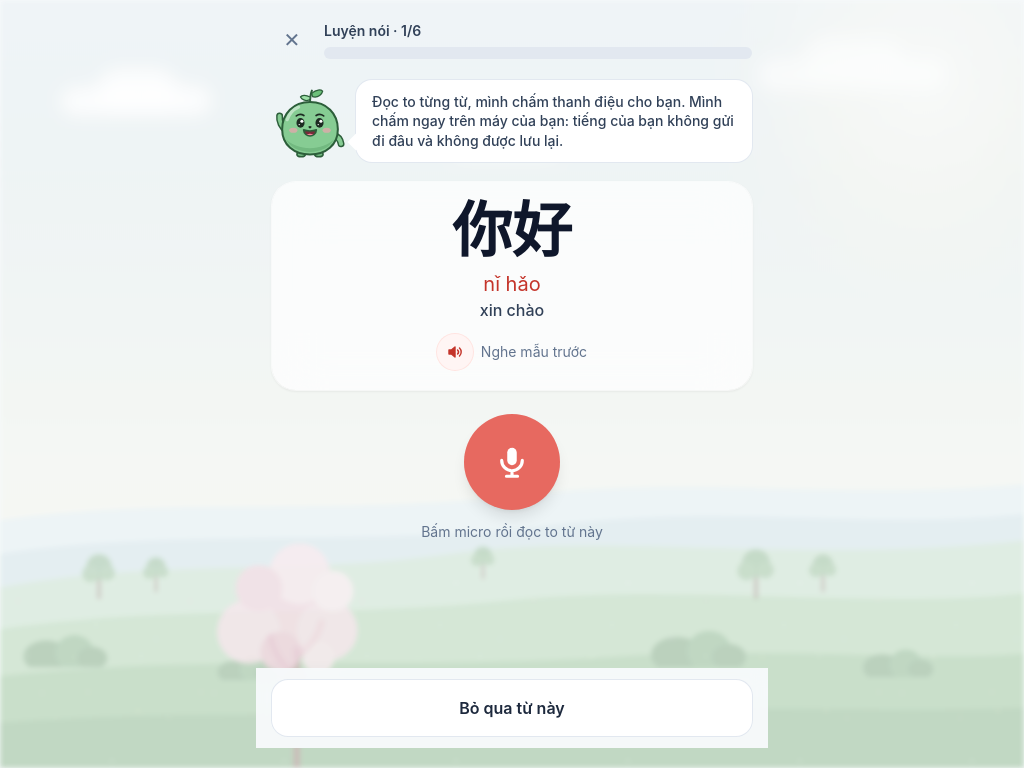
Màn luyện nói › bị chặn micro thì chỉ cách mở, bấm Thử lại thì nút micro quay lại
The width and height of the screenshot is (1024, 768).
Click the button named "Bấm để đọc": point(512, 462) [464, 414, 560, 510]
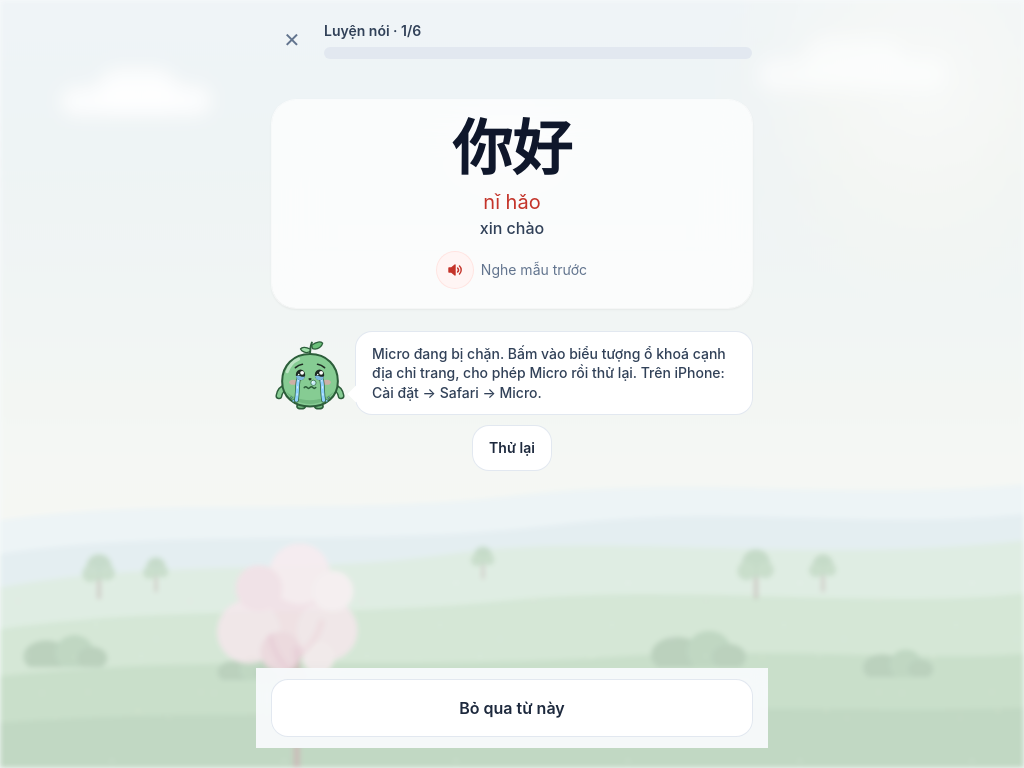
Now the text "Micro đang bị chặn. Bấm vào biểu tượng ổ khoá cạnh địa chỉ trang, cho phép Micro rồi thử lại. Trên iPhone: Cài đặt → Saf" is shown, box [372, 345, 726, 400]
Click the button "Thử lại": point(512, 448) [473, 426, 551, 470]
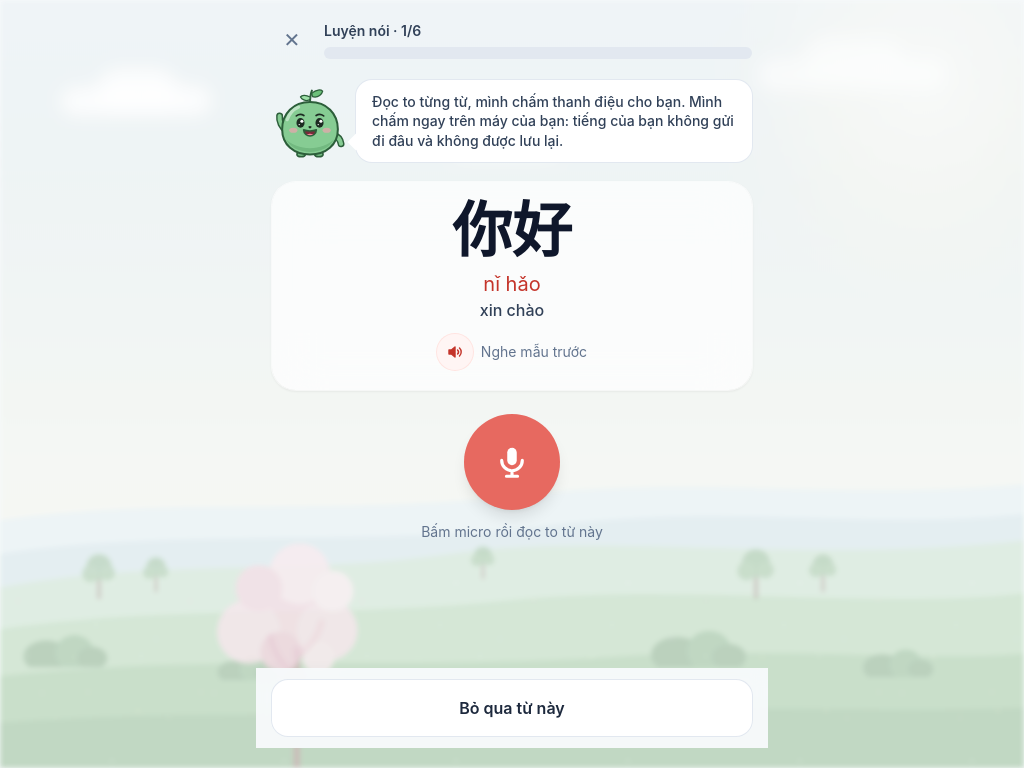
Now the button named "Bấm để đọc" is shown, box [464, 414, 560, 510]
